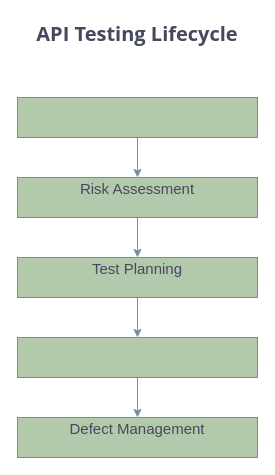
This 275x475 diagram has some shape labels left out. The shapes that lost their labels are listed below. From the top down, each one's centre as x and y in pixels, then its label:
the point at 137,117: Requirements
the point at 137,357: Test Execution
